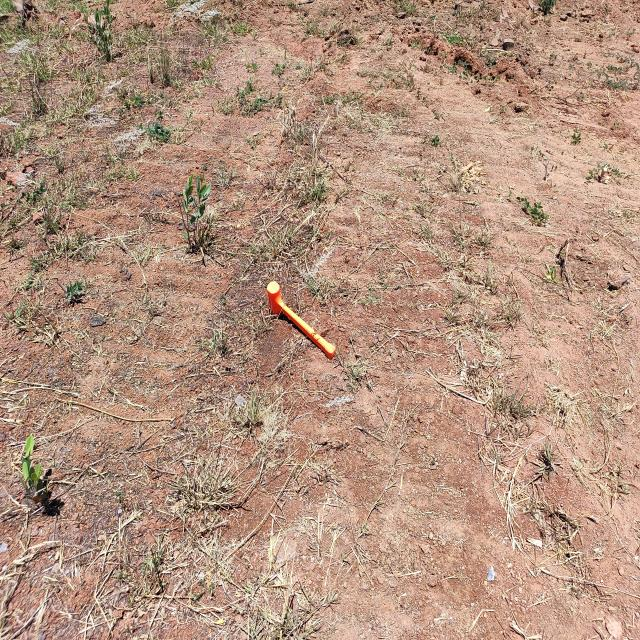Orange_hammer: (266, 280, 336, 360)
